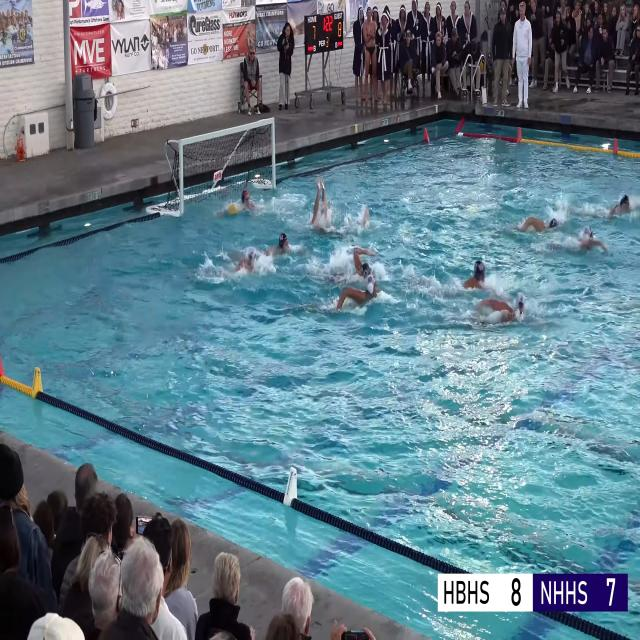ball: (228, 204, 238, 215), (479, 61, 483, 72)
